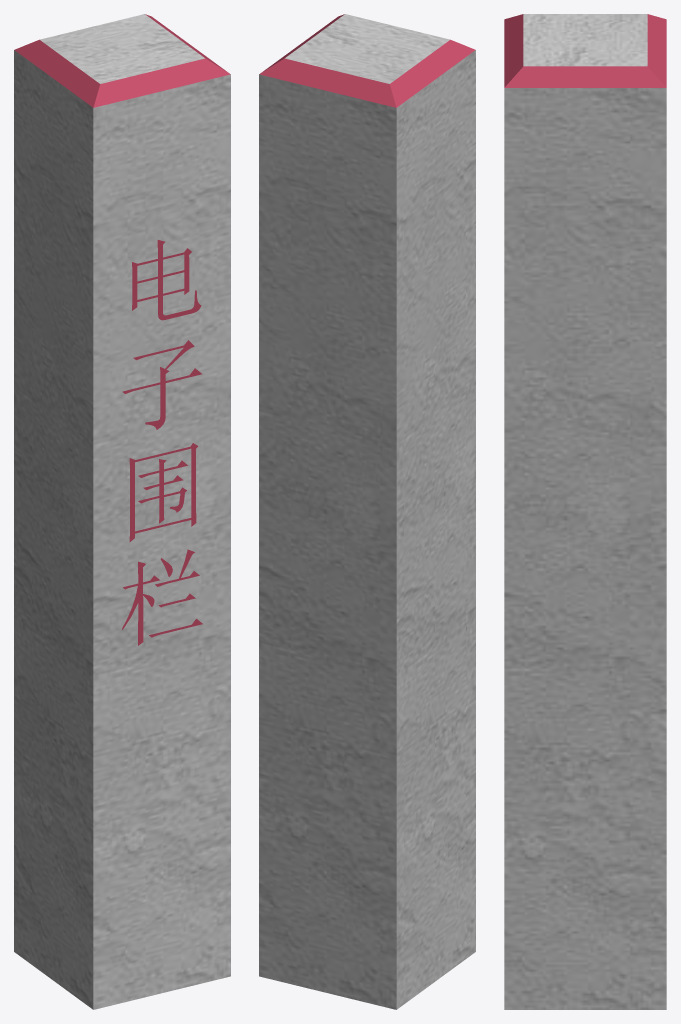
File: stoneblock.gltf
3 views of the same model, side by side, from view 1: azimuth 30°, elevation 25°; view 2: azimuth 150°, elevation 25°; view 3: azimuth 270°, elevation 25° (orthographic). The views are drawn at different scales.
Parts seen in each view (by area): view 1: SketchUp, ID16, ID32, ID120, ID46, ID58, ID52, ID128, ID134; view 2: SketchUp, ID16, ID32; view 3: SketchUp, ID16, ID32.
Part boxes in pixels (x1,y1,x2,y2): SketchUp: (14,50,230,1009); ID16: (40,14,204,83); ID32: (14,14,230,107); ID120: (135,448,191,531); ID46: (132,240,201,320); ID58: (129,443,198,541); ID52: (122,340,202,429); ID128: (138,459,187,523); ID134: (122,561,159,645); SketchUp: (259,50,475,1009); ID16: (285,14,449,83); ID32: (259,14,475,107); SketchUp: (504,88,666,1009); ID16: (523,14,647,66); ID32: (504,14,666,87).
Bounding box in the file's own units: 0.11 × 0.7 × 0.11.
Materials: 19 (7 with a texture image).
